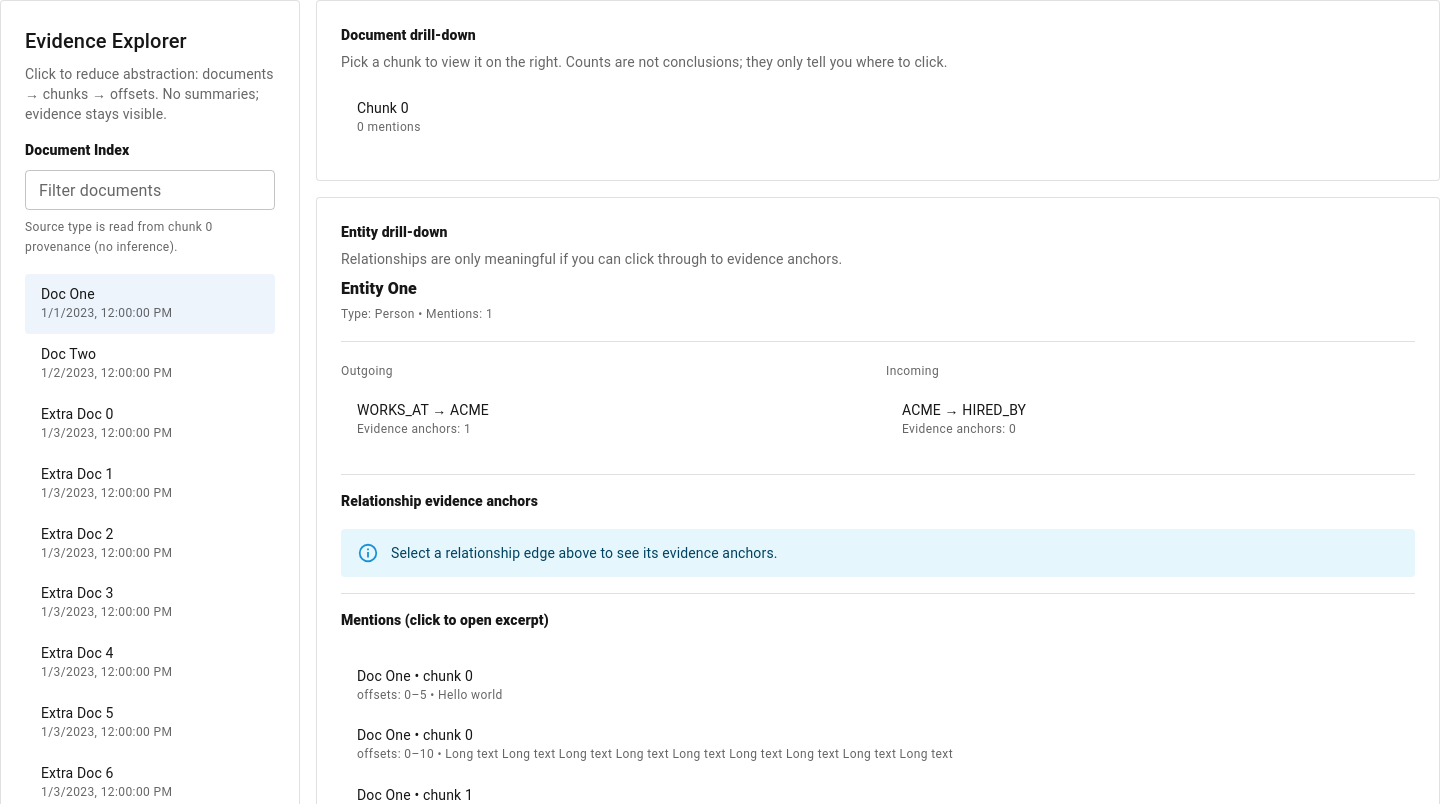
Test: EvidenceExplorer › handles drill-down interactions
The image size is (1440, 804).
# Click Doc One
Click the text "Doc One": (68, 294) [41, 286, 95, 302]
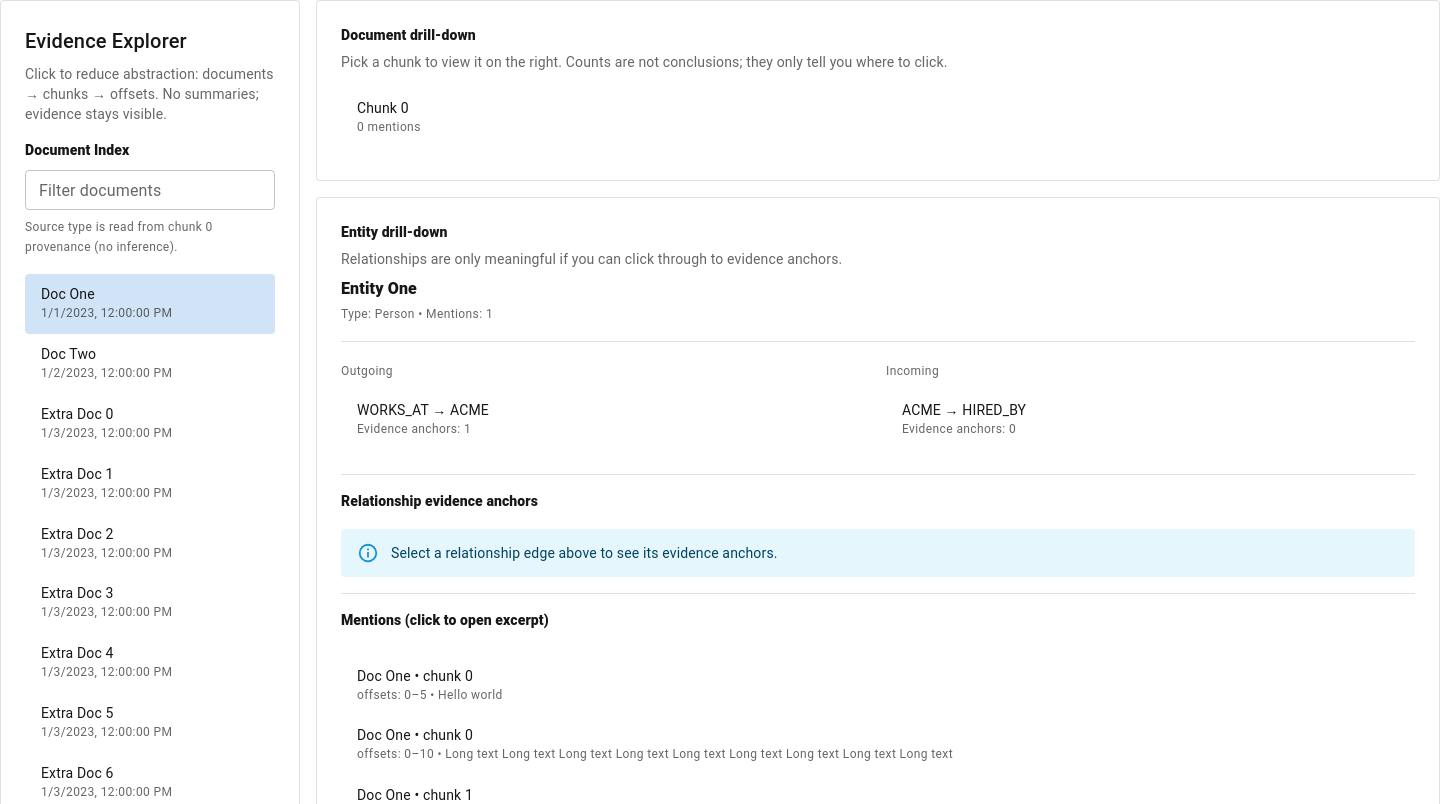
# Click Chunk 0
Click the text "Chunk 0": (383, 108) [357, 100, 409, 116]
(page scrolled)
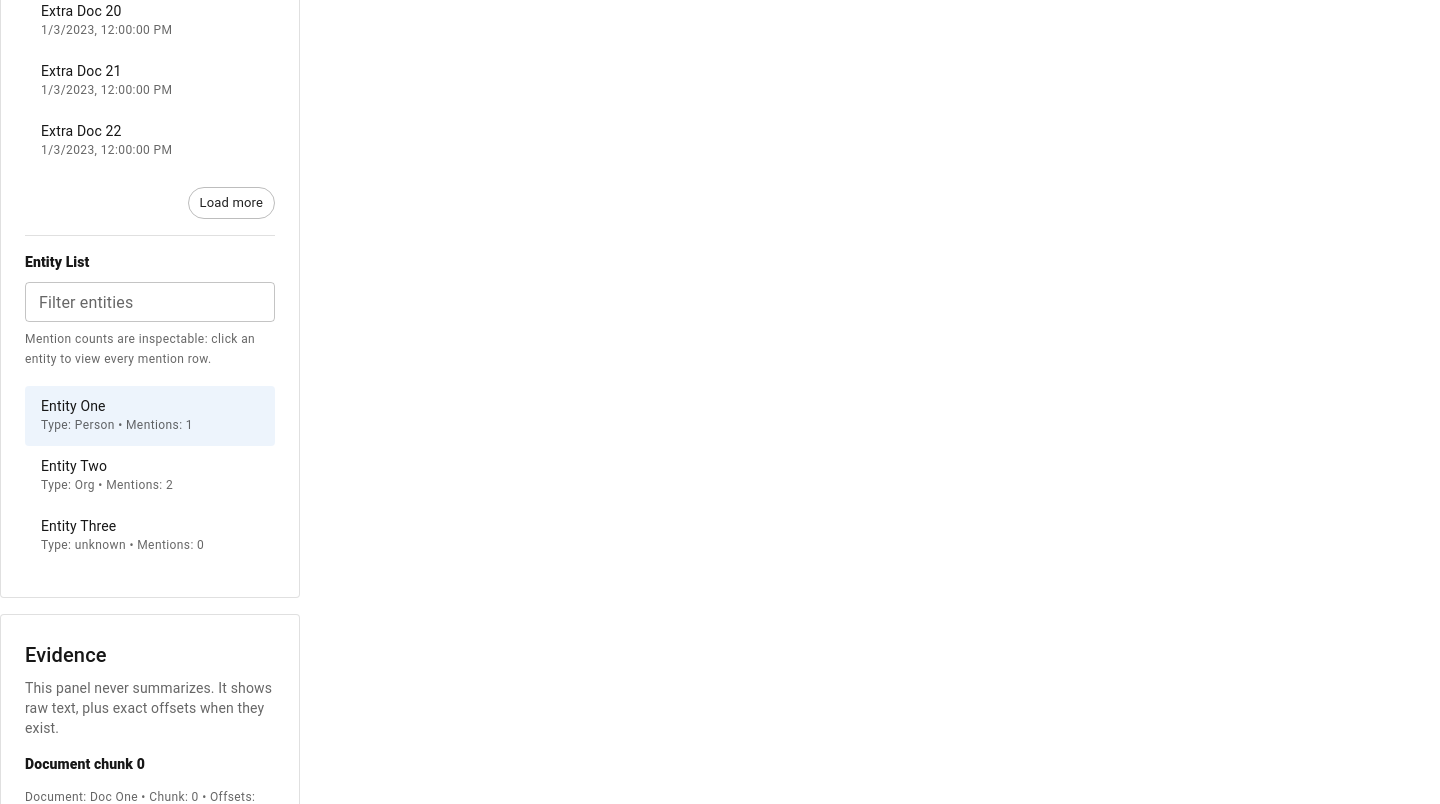
Result: the heading "Document chunk 0" is shown at [25, 756, 145, 772]
# Click Entity One
Click the text "Entity One": (73, 406) [41, 398, 106, 414]
(page scrolled)
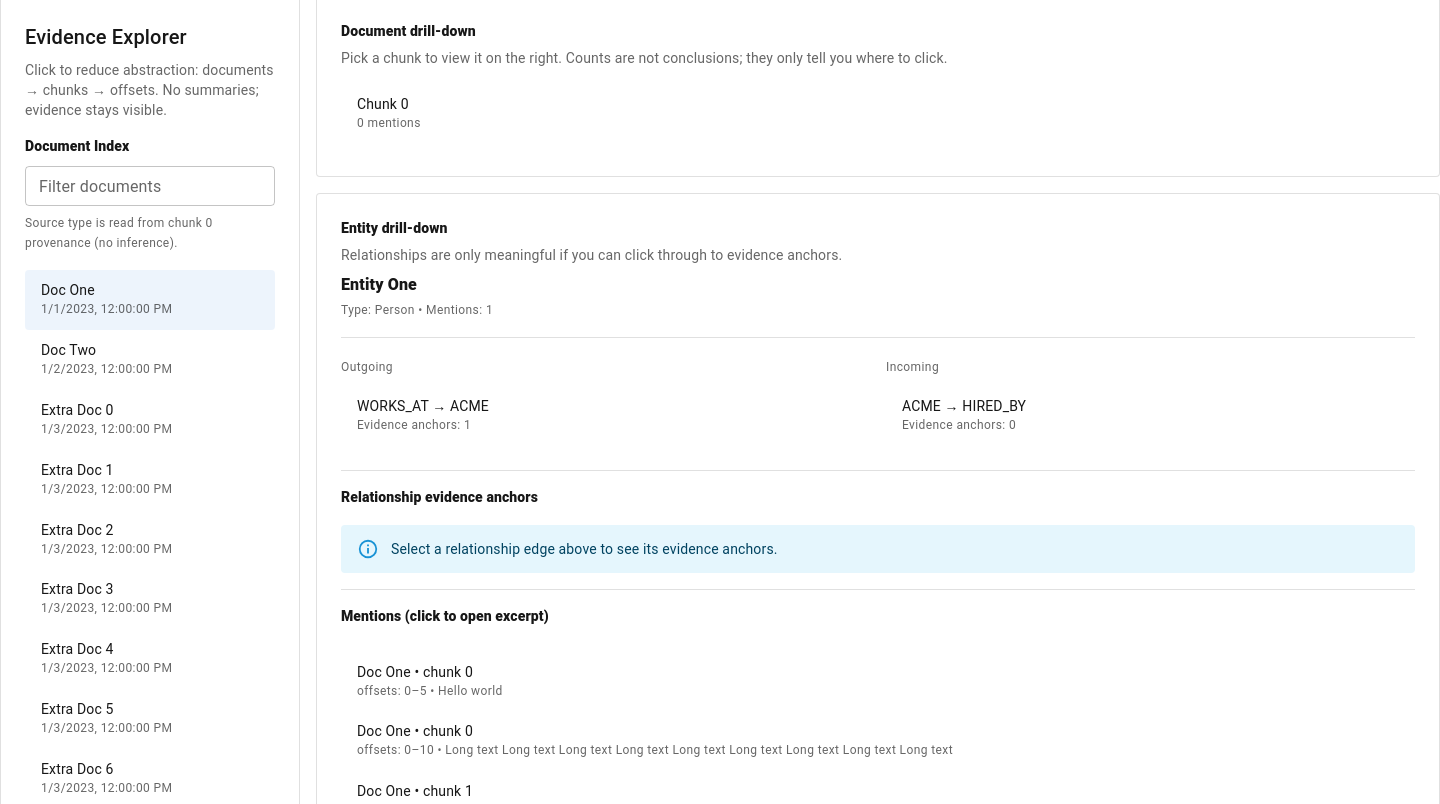
# Click Relationship WORKS_AT (outgoing)
Click the text "WORKS_AT → ACME": (423, 406) [357, 398, 489, 414]
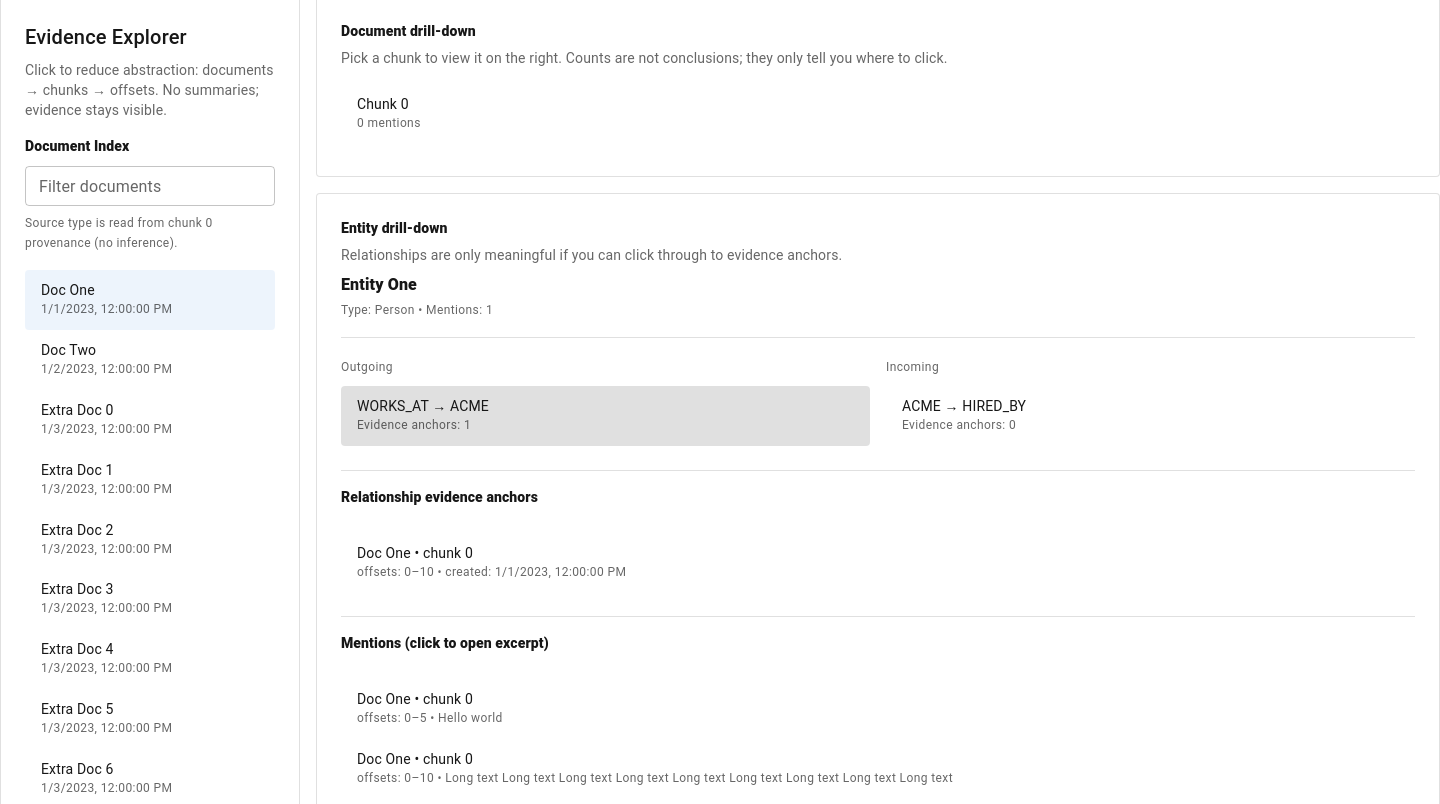
# Click Relationship Evidence
Click the 1st text "Doc One • chunk 0": (415, 553) [357, 545, 473, 561]
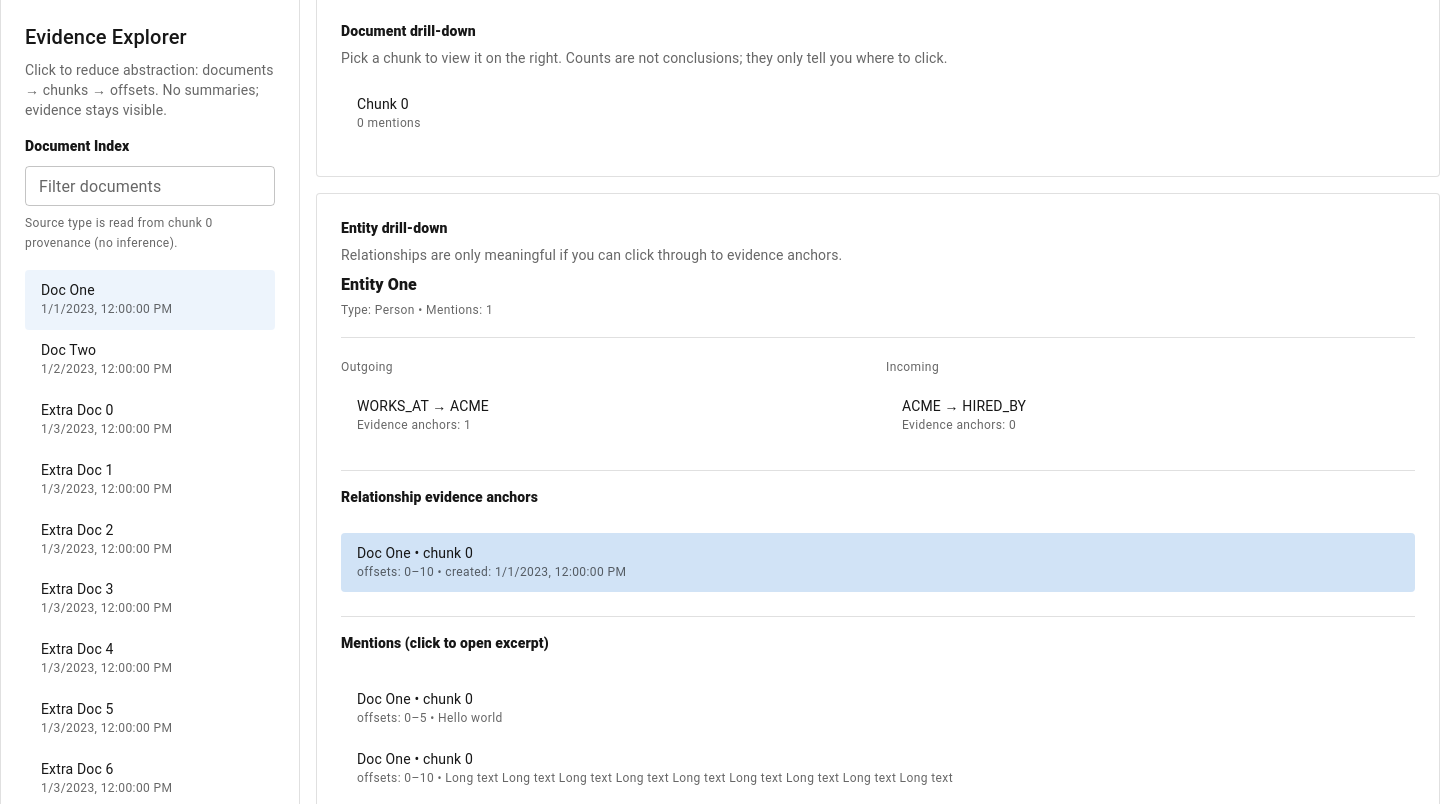
# Click Mention
Click the 2nd text "Doc One • chunk 0": (415, 700) [357, 692, 473, 708]
(page scrolled)
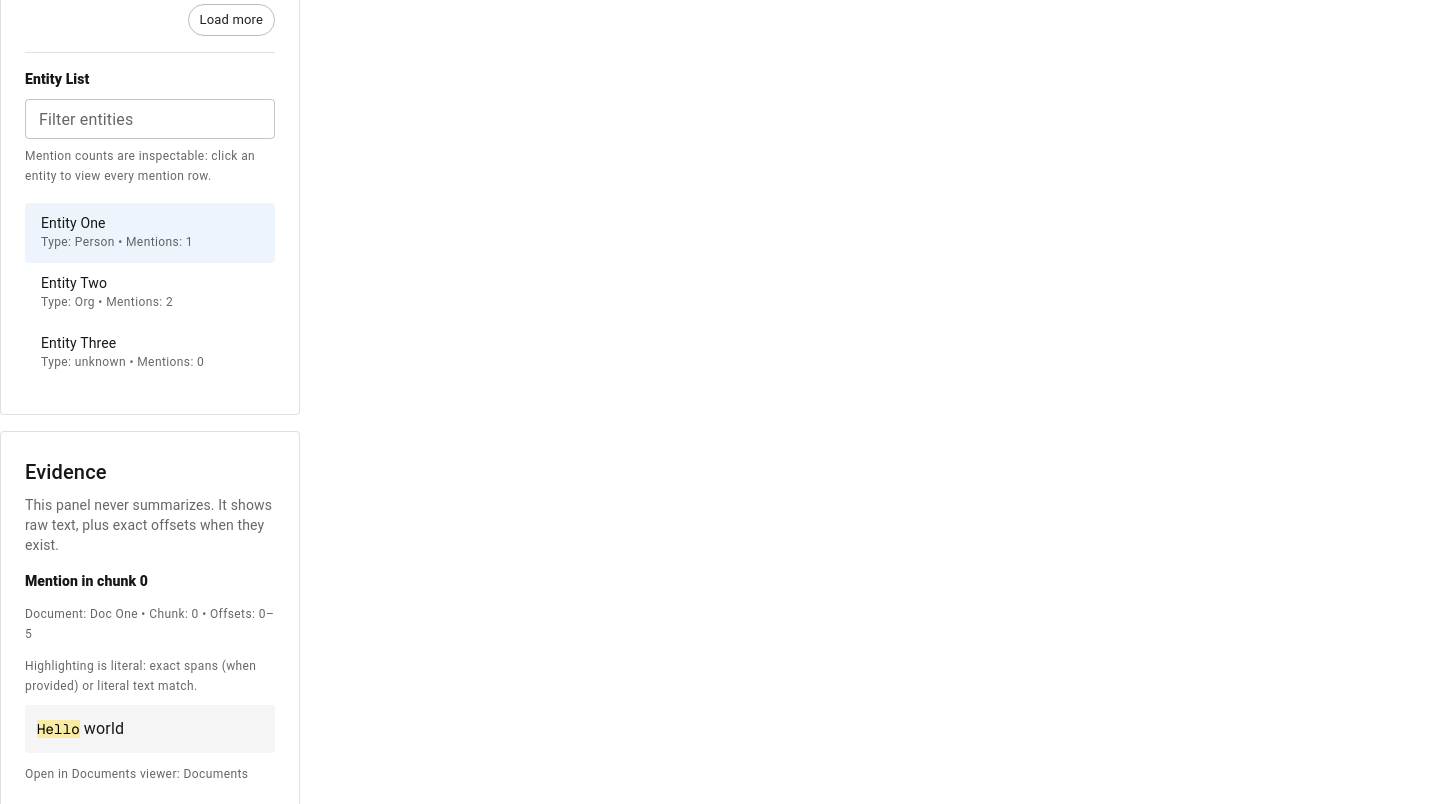
Result: the heading "Mention in chunk 0" is shown at [25, 574, 148, 590]
